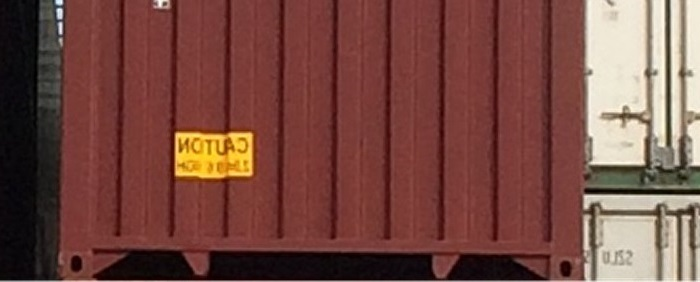container_no_door: (56, 4, 591, 270)
